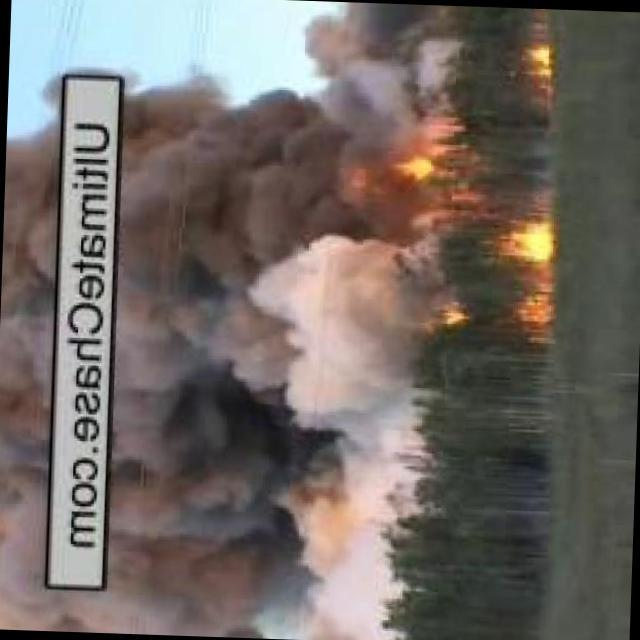Fire: (423, 271, 552, 347), (381, 156, 458, 189), (489, 226, 556, 258), (522, 48, 555, 89)
